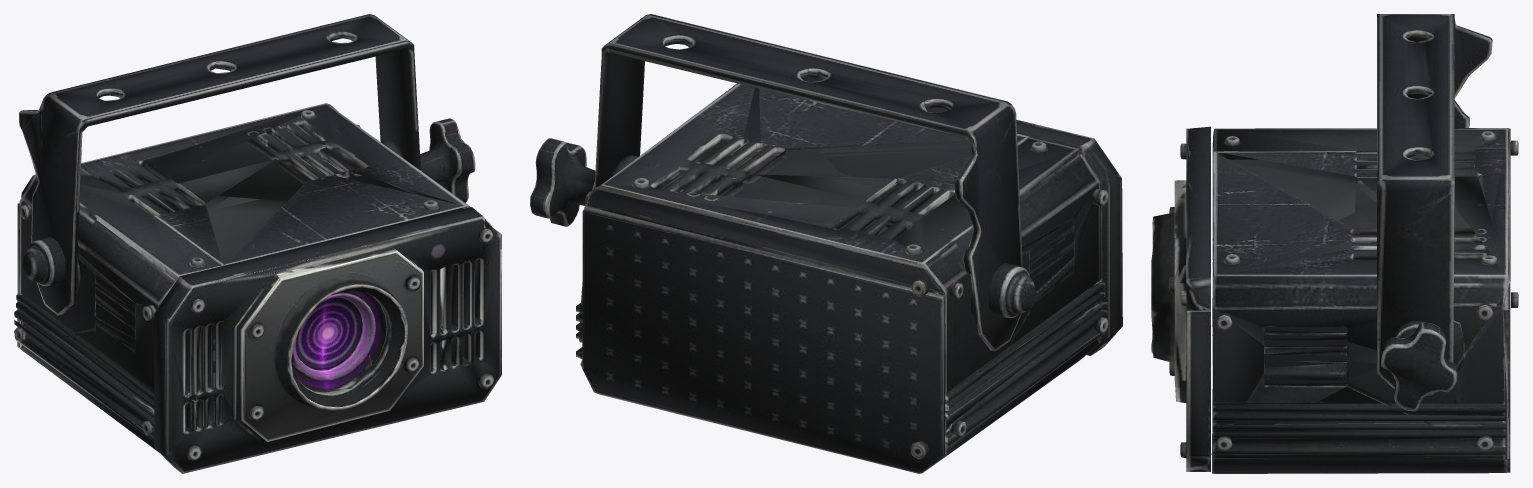
Rendered from laser_opt.glb.
The picture shows the model from 3 angles, left to right: view 1: azimuth 30°, elevation 25°; view 2: azimuth 150°, elevation 25°; view 3: azimuth 270°, elevation 25°; orthographic projection. The views are drawn at different scales.
Size of the model in its own units: 0.9521 by 0.6177 by 0.6714.
1 material, 1 textured.
